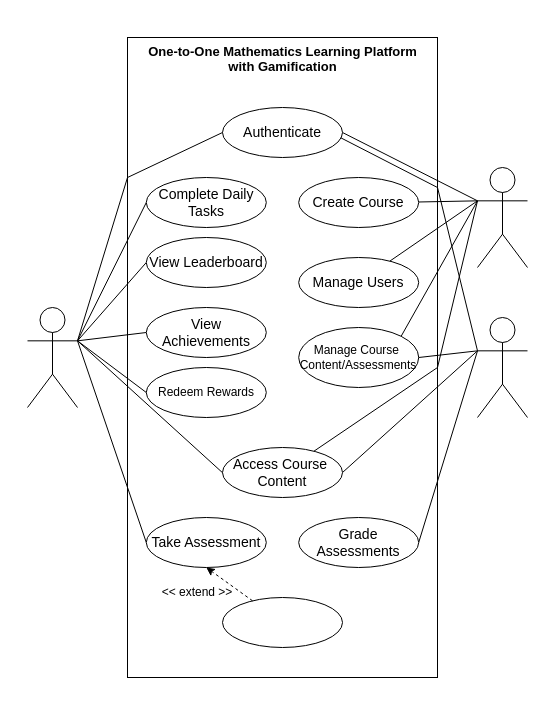
The diagram is 554 pixels wide and 714 high, and some of its shapes have lost their labels. Each missing label, with the centre of its shape:
"Admin" belongs at [502,217].
"Student" belongs at [52,357].
"Tutor" belongs at [502,367].
"Use Power-ups" belongs at [282,622].
